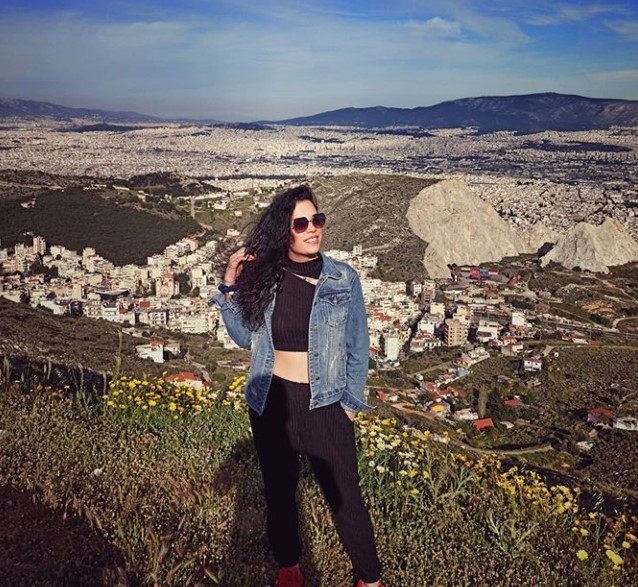face_no_mask: (272, 189, 325, 259)
